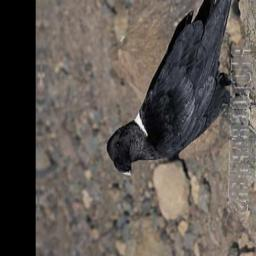Crow: (105, 0, 256, 184)
